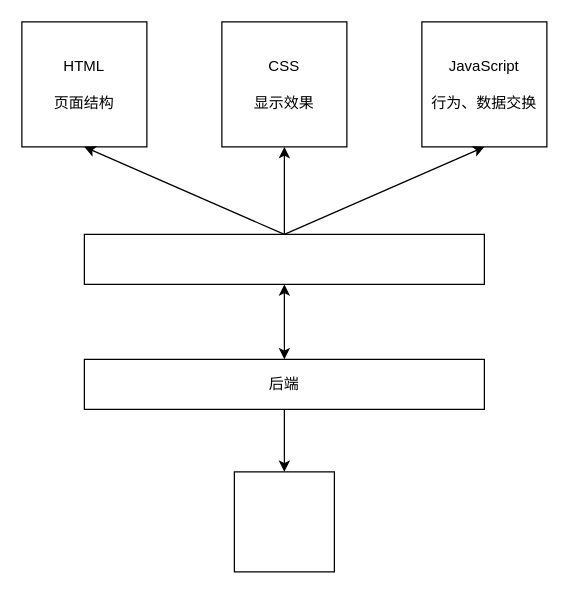
Image size: 569x594. Some labels were removed from this diagram. The shapes that lost their labels are listed below. From the top down, each one's box as (x1, y1, x2, y2) in pixels, then its label:
(83, 233, 484, 284): 前端
(233, 471, 334, 572): Flask框架
